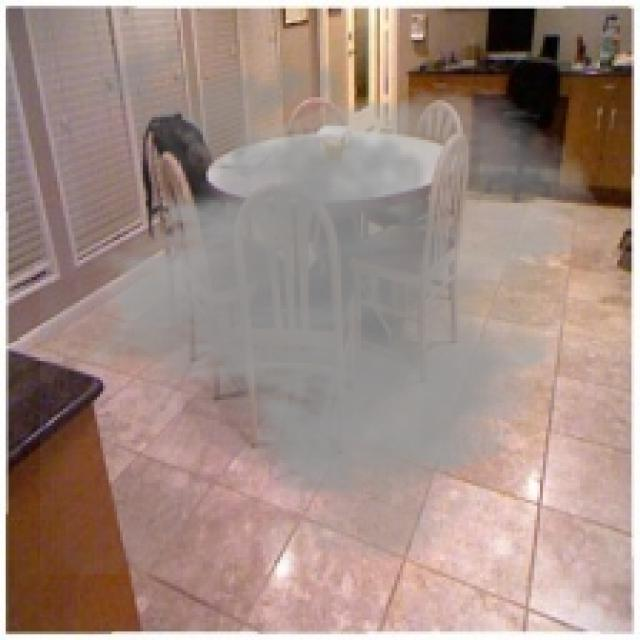Smoke: (40, 26, 603, 574)
